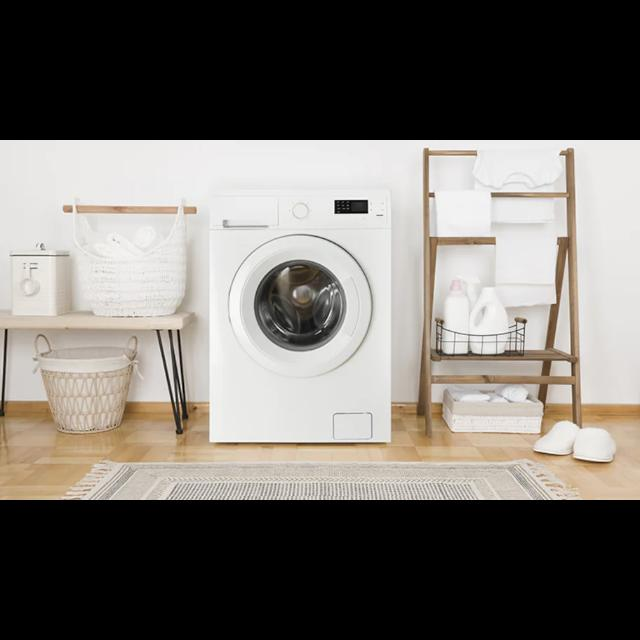Washing-Machine: (210, 187, 392, 443)
